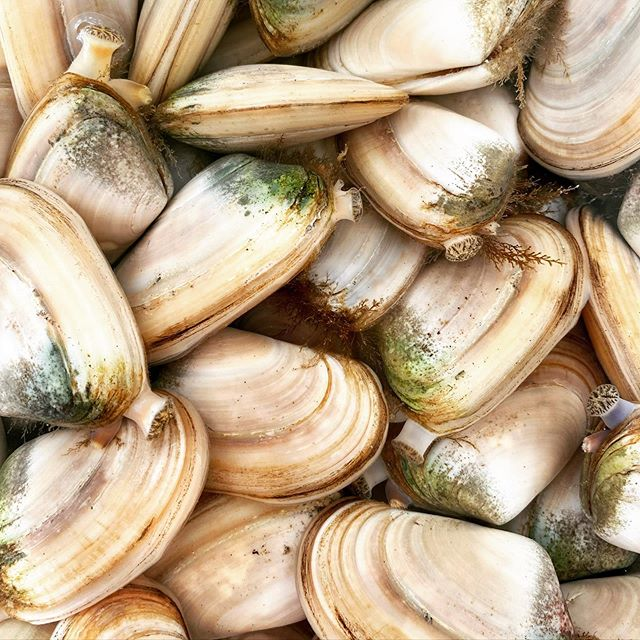tuatua: (2, 388, 214, 626), (370, 210, 596, 430), (112, 151, 335, 361), (164, 325, 395, 503), (292, 495, 573, 640), (384, 335, 593, 519), (4, 173, 146, 439), (4, 70, 178, 250), (339, 91, 523, 243), (508, 3, 640, 182), (148, 63, 413, 152), (313, 2, 551, 92)
